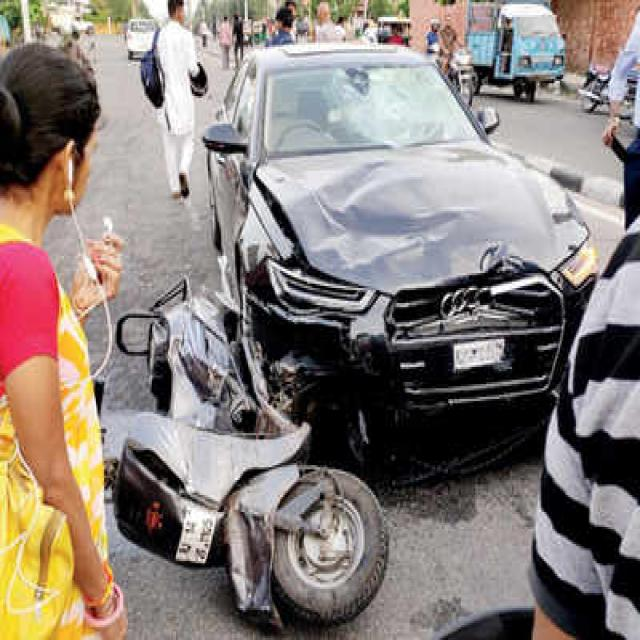accident: (204, 47, 596, 459), (114, 293, 388, 622)
truck: (466, 3, 564, 101)
